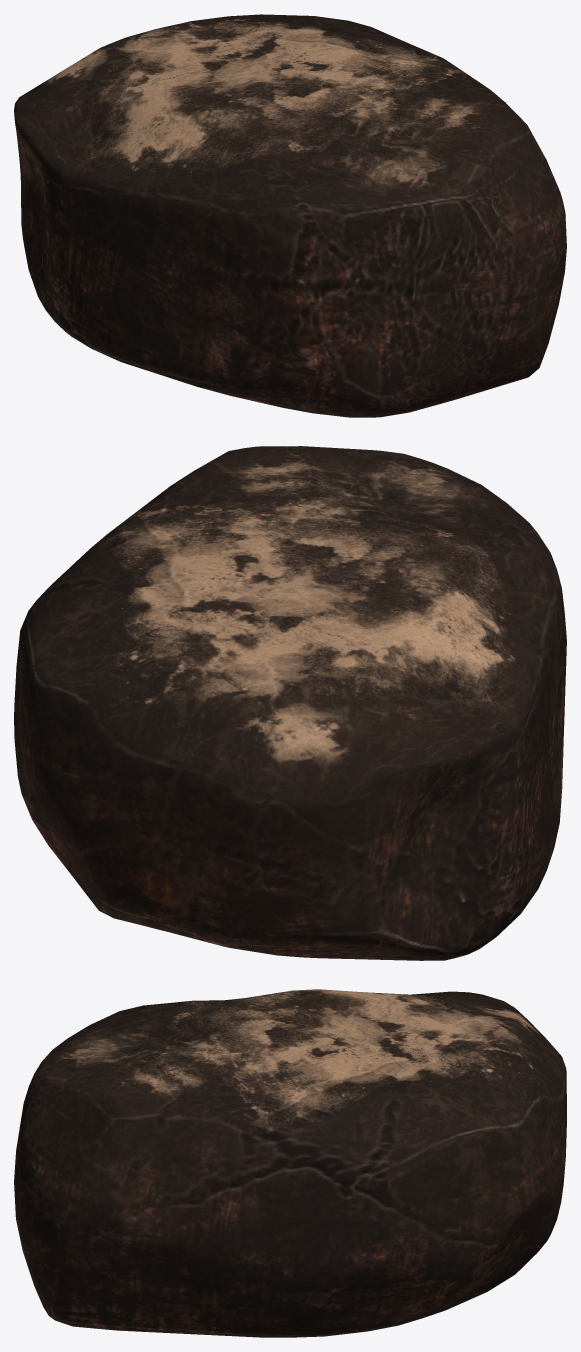
Rendered from rock_red_small01.dae.
The picture shows the model from 3 angles, top to bottom: view 1: azimuth 30°, elevation 25°; view 2: azimuth 150°, elevation 25°; view 3: azimuth 270°, elevation 25°; orthographic projection. The views are drawn at different scales.
Parts seen in each view (by area): view 1: Mesh; view 2: Mesh; view 3: Mesh.
Part boxes in pixels (x1,y1,x2,y2): Mesh: [14, 14, 566, 417]; Mesh: [14, 446, 566, 960]; Mesh: [14, 989, 566, 1337].
Size of the model in its own units: 0.7723 by 0.4989 by 0.9529.
